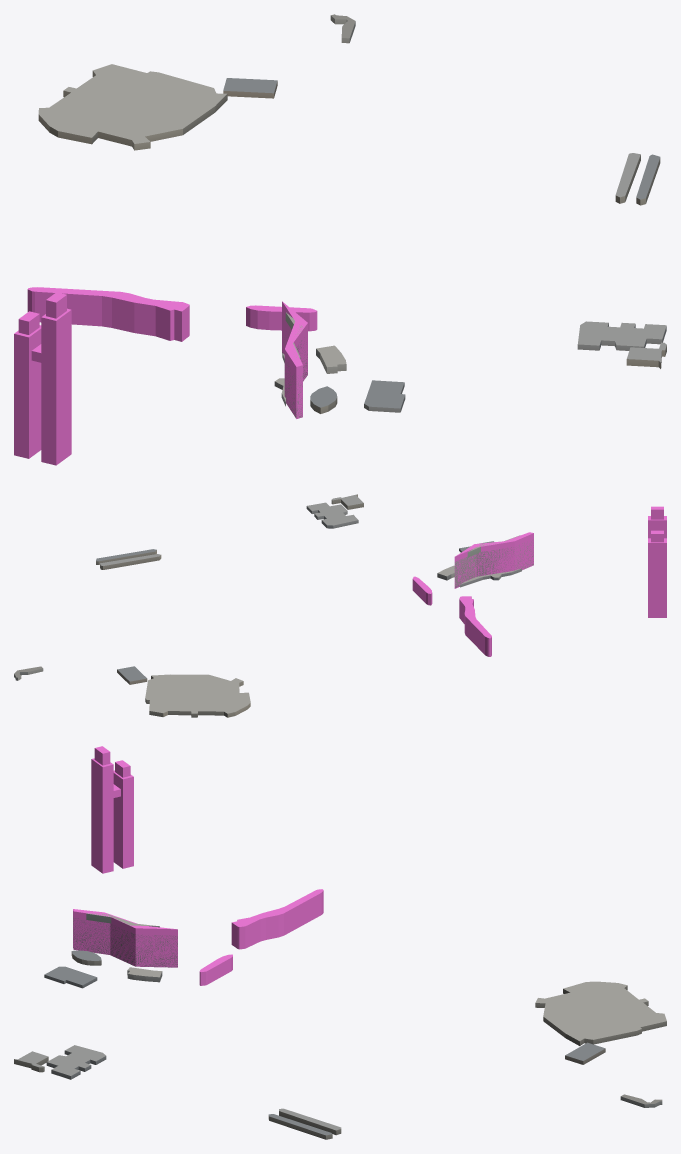
Rendered from bld_8_6.fbx.
The picture shows the model from 3 angles, top to bottom: view 1: azimuth 30°, elevation 25°; view 2: azimuth 150°, elevation 25°; view 3: azimuth 270°, elevation 25°; orthographic projection. The views are drawn at different scales.
Parts seen in each view (by area): view 1: bld_8_6_LOD0, bld_8_6_COL; view 2: bld_8_6_LOD0, bld_8_6_COL; view 3: bld_8_6_LOD0, bld_8_6_COL.
Part boxes in pixels (left/top/right/bottom): bld_8_6_LOD0: left=38, top=14, right=666, bottom=417; bld_8_6_COL: left=14, top=287, right=317, bottom=465; bld_8_6_LOD0: left=14, top=494, right=533, bottom=717; bld_8_6_COL: left=412, top=506, right=666, bottom=656; bld_8_6_LOD0: left=14, top=913, right=666, bottom=1139; bld_8_6_COL: left=73, top=746, right=323, bottom=985.
Size of what is drawn, in the model's own units: 1640 by 321 by 1605.
